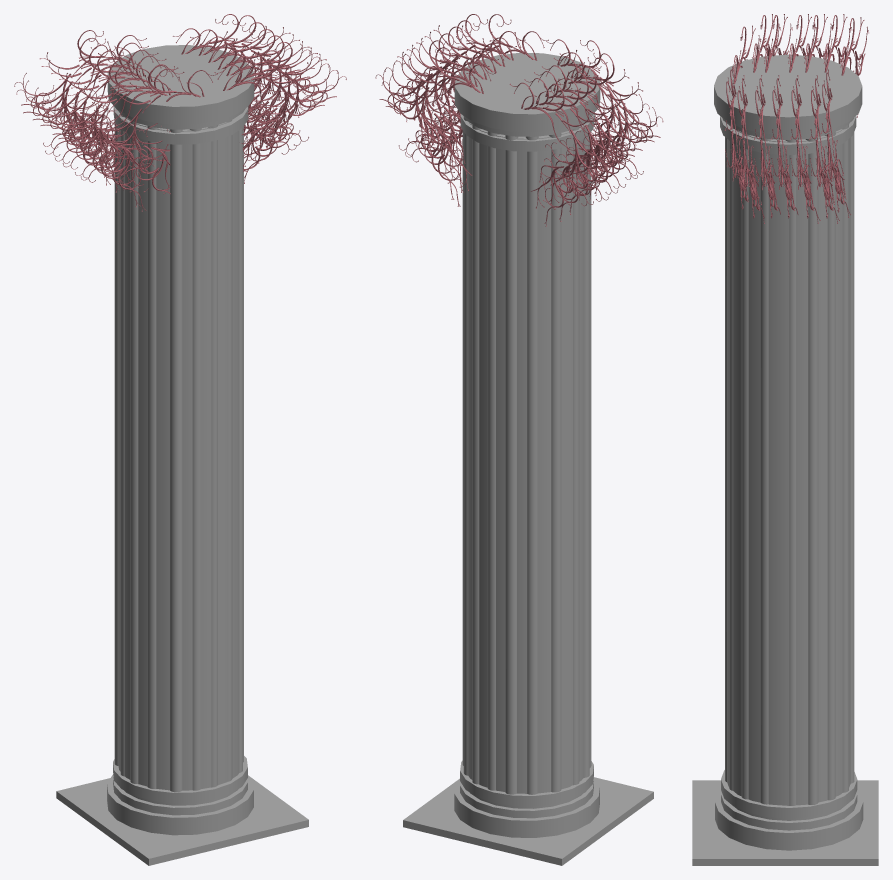
File: column2.fbx
3 views of the same model, side by side, from view 1: azimuth 30°, elevation 25°; view 2: azimuth 150°, elevation 25°; view 3: azimuth 270°, elevation 25° (orthographic).
Parts seen in each view (by area): view 1: pCylinder14, pCube1, pCylinder13; view 2: pCylinder14, pCube1, pCylinder13; view 3: pCylinder14, pCube1, pCylinder13.
Part boxes in pixels (left/top/right/bottom): pCylinder14: left=14, top=14, right=346, bottom=805; pCube1: left=56, top=775, right=308, bottom=865; pCylinder13: left=107, top=756, right=253, bottom=835; pCylinder14: left=375, top=14, right=663, bottom=808; pCube1: left=403, top=777, right=653, bottom=865; pCylinder13: left=454, top=760, right=599, bottom=837; pCylinder14: left=714, top=14, right=868, bottom=820; pCube1: left=692, top=780, right=878, bottom=865; pCylinder13: left=715, top=770, right=863, bottom=850.
Size of the model in its own units: 7.15 by 19.27 by 4.18.
